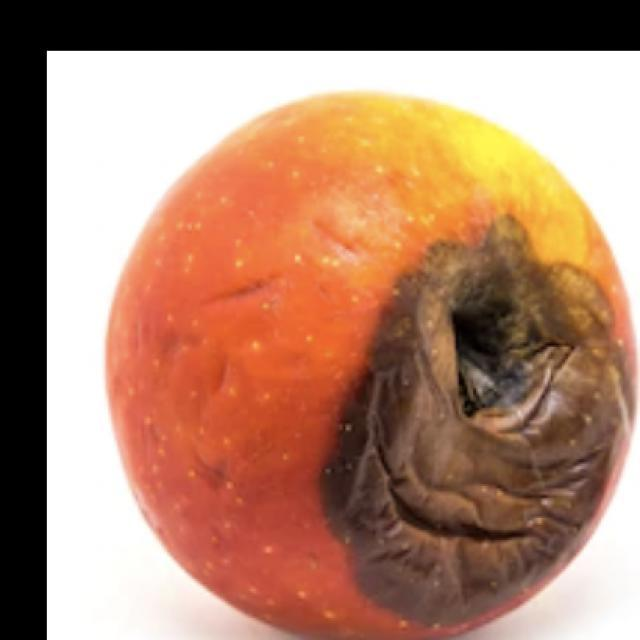Rotten: (100, 82, 640, 640)
